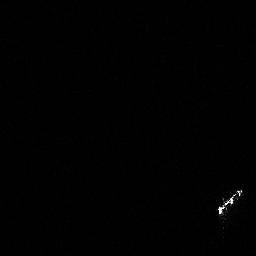ship: (214, 185, 245, 217)
